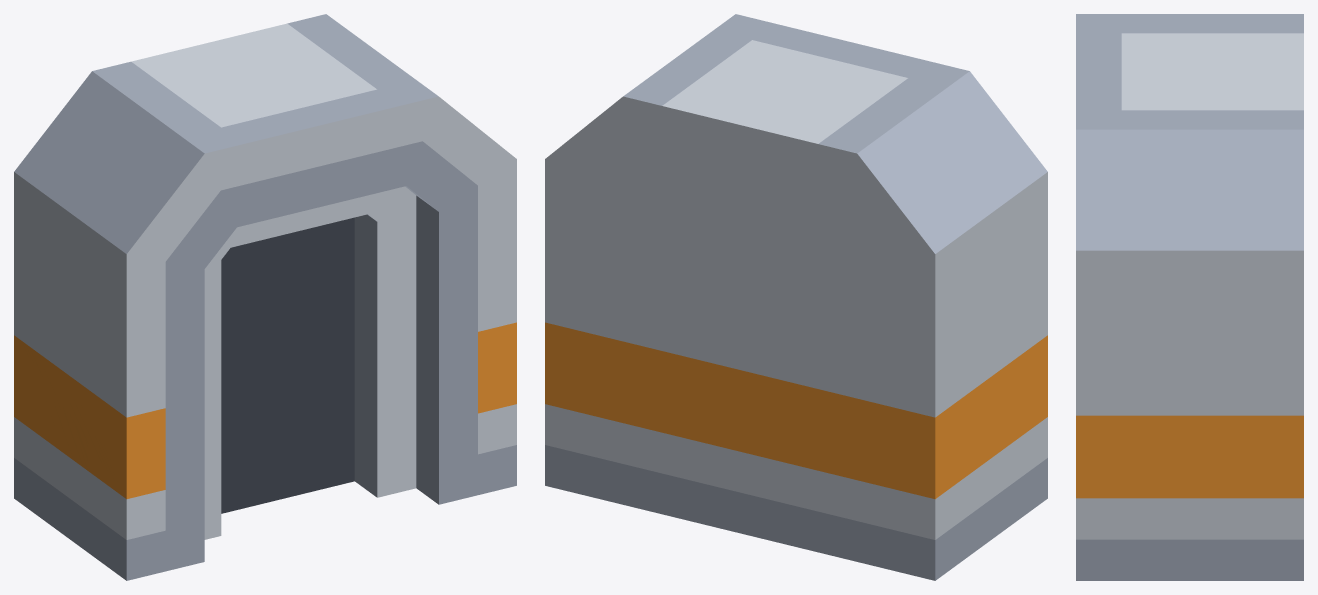
The model's file is corridor_end.glb.
3 views of the same model, side by side, from view 1: azimuth 30°, elevation 25°; view 2: azimuth 150°, elevation 25°; view 3: azimuth 270°, elevation 25° (orthographic).
Parts seen in each view (by area): view 1: corridor_end; view 2: corridor_end; view 3: corridor_end.
Part boxes in pixels (x1,y1,x2,y2): corridor_end: (14, 14, 516, 580); corridor_end: (545, 14, 1047, 580); corridor_end: (1076, 14, 1303, 580).
Bounding box in the file's own units: 1 × 1 × 0.5.
